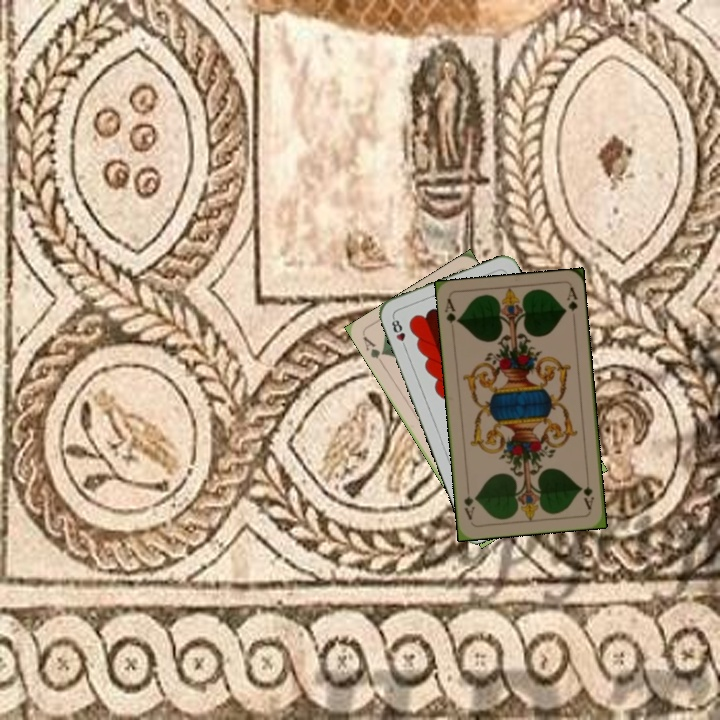GA: (359, 332, 388, 368), (578, 472, 596, 512), (441, 295, 462, 327)
H8: (387, 313, 409, 352)
